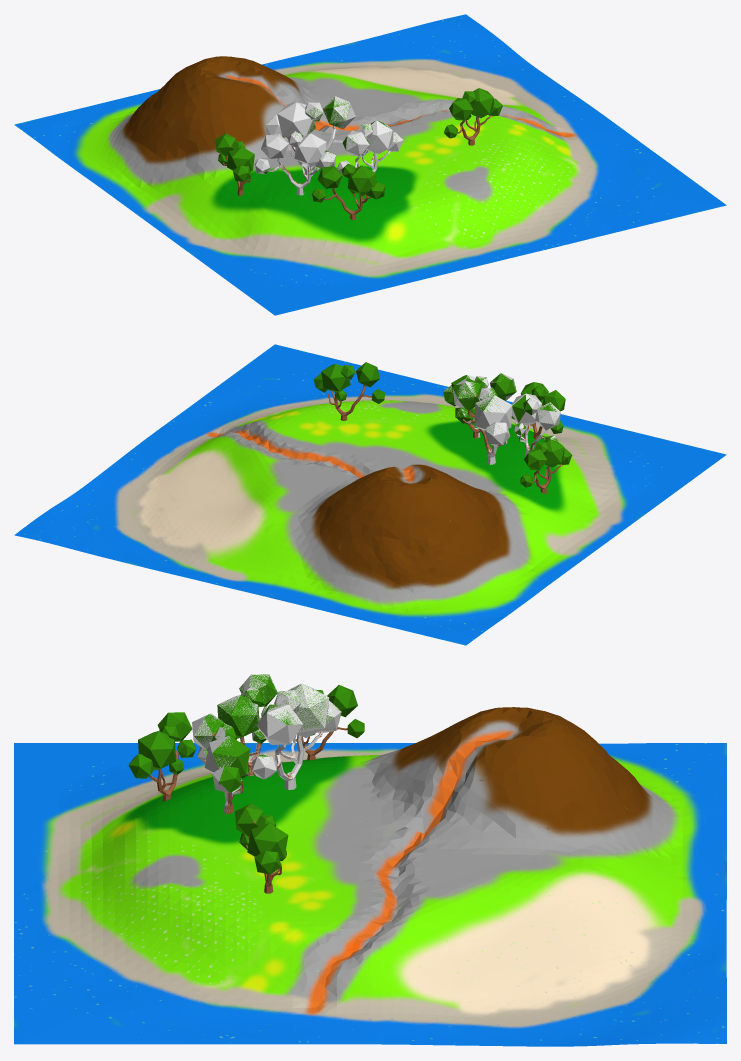
The model's file is Base_terrain + Colur Trees with Coloistion osc_V2.glb.
3 views of the same model, one above another, from view 1: azimuth 30°, elevation 25°; view 2: azimuth 150°, elevation 25°; view 3: azimuth 270°, elevation 25° (orthographic). The views are drawn at different scales.
Parts seen in each view (by area): view 1: Base_terrian, Tree-colonly.003, Tree-colonly.001, Tree-colonly.002, Tree.004, Tree, Tree.005, Tree-conlonly.001, Tree-conlonly.005, Tree.003; view 2: Base_terrian, Tree-colonly.003, Tree-conlonly.001, Tree, Tree-colonly.001, Tree.003, Tree.002, Tree.005, Tree.001, Tree.004; view 3: Base_terrian, Tree-colonly.003, Tree-conlonly.005, Tree.001, Tree.002, Tree-conlonly.001, Tree.005, Tree-colonly.002, Tree.003, Tree, Tree-colonly.001.
Boxes of the visible parts, x1,y1,x2,y2 form: Base_terrian: [14, 14, 726, 315]; Tree-colonly.003: [265, 96, 355, 176]; Tree-colonly.001: [254, 131, 335, 195]; Tree-colonly.002: [337, 120, 403, 176]; Tree.004: [311, 163, 383, 219]; Tree: [215, 133, 254, 196]; Tree.005: [444, 88, 502, 140]; Tree-conlonly.001: [444, 88, 502, 145]; Tree-conlonly.005: [315, 164, 385, 220]; Tree.003: [267, 97, 350, 166]; Base_terrian: [14, 344, 726, 645]; Tree-colonly.003: [452, 378, 512, 464]; Tree-conlonly.001: [313, 362, 385, 420]; Tree: [520, 439, 571, 493]; Tree-colonly.001: [512, 393, 560, 456]; Tree.003: [452, 378, 505, 459]; Tree.002: [443, 373, 516, 438]; Tree.005: [314, 363, 384, 414]; Tree.001: [512, 395, 558, 450]; Tree.004: [527, 382, 565, 438]; Base_terrian: [14, 707, 726, 1046]; Tree-colonly.003: [252, 683, 341, 789]; Tree-conlonly.005: [128, 712, 195, 801]; Tree.001: [217, 674, 277, 776]; Tree.002: [194, 714, 250, 814]; Tree-conlonly.001: [234, 803, 288, 893]; Tree.005: [235, 803, 287, 892]; Tree-colonly.002: [192, 713, 247, 813]; Tree.003: [257, 684, 341, 778]; Tree: [295, 685, 364, 760]; Tree-colonly.001: [217, 674, 277, 775].
Size of what is drawn, in the model's own units: 200 by 46.41 by 200.
2 materials, 2 textured.
